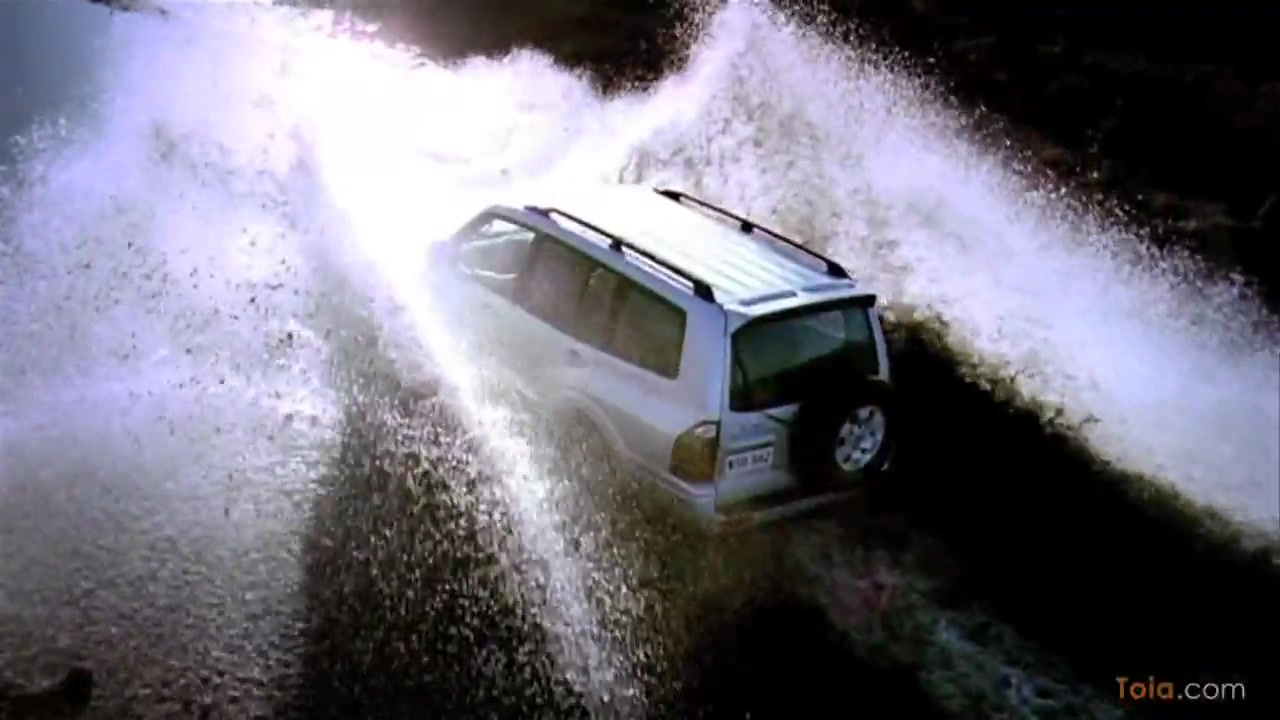car: (422, 185, 911, 539)
